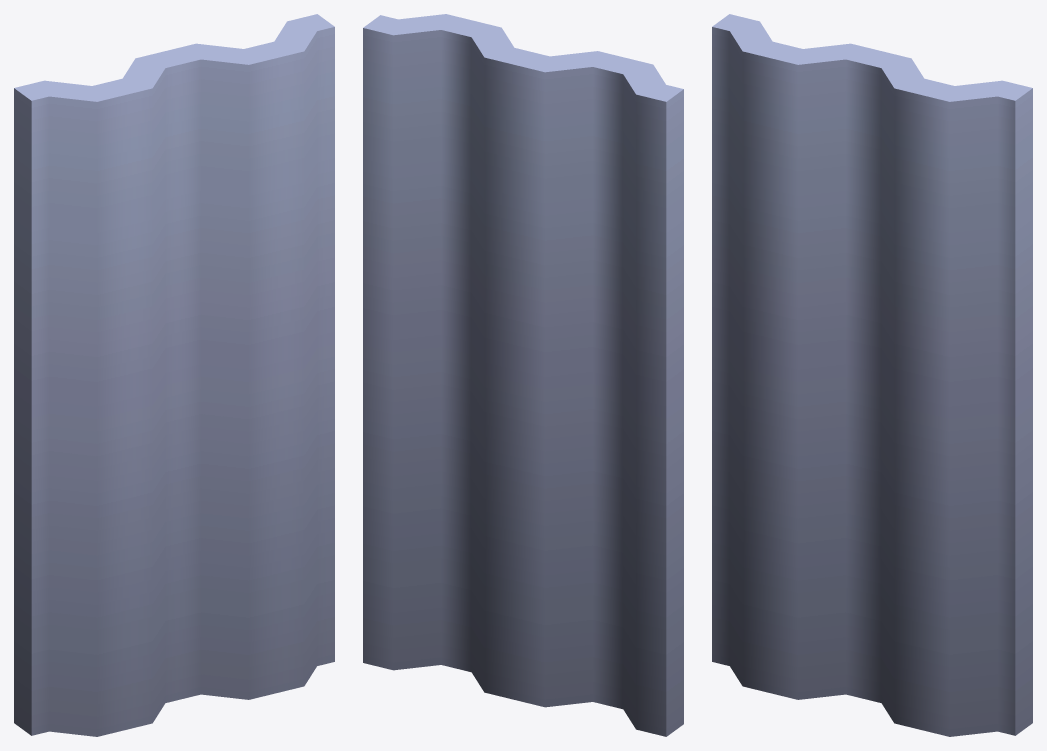
File: metal-panel-narrow.glb
The picture shows the model from 3 angles, left to right: view 1: azimuth 30°, elevation 25°; view 2: azimuth 150°, elevation 25°; view 3: azimuth 330°, elevation 25°; orthographic projection.
Parts seen in each view (by area): view 1: metal-panel-narrow; view 2: metal-panel-narrow; view 3: metal-panel-narrow.
Part boxes in pixels (x1,y1,x2,y2): metal-panel-narrow: (14, 14, 334, 736); metal-panel-narrow: (363, 14, 683, 736); metal-panel-narrow: (712, 14, 1032, 736).
Bounding box in the file's own units: 0.25 × 0.5 × 0.05.
Materials: 1 (1 with a texture image).
